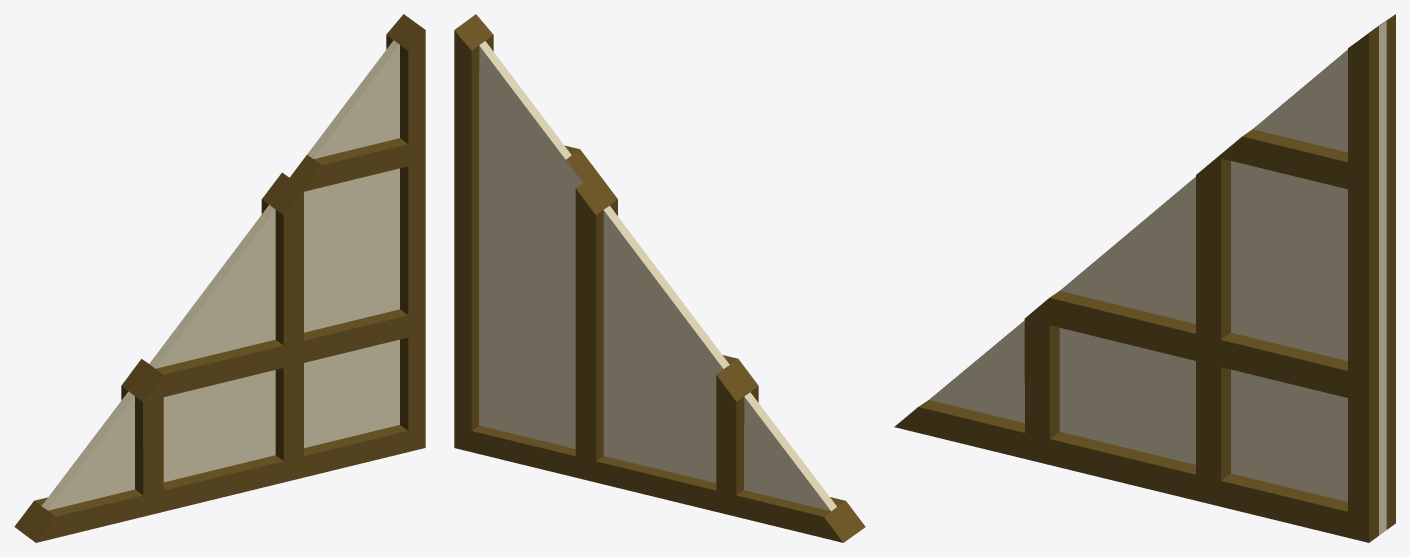
File: SlantedWalll.fbx
3 renders of one model, left to right at view 1: azimuth 30°, elevation 25°; view 2: azimuth 150°, elevation 25°; view 3: azimuth 330°, elevation 25°, orthographic. The views are drawn at different scales.
Visible parts, largest first — view 1: pCube142; view 2: pCube142; view 3: pCube142.
Part boxes in pixels (bbox=[...]): pCube142: bbox=[14, 14, 425, 542]; pCube142: bbox=[454, 14, 865, 542]; pCube142: bbox=[894, 14, 1395, 542].
Size of the model in its own units: 2.9 by 2.97 by 0.2823.
